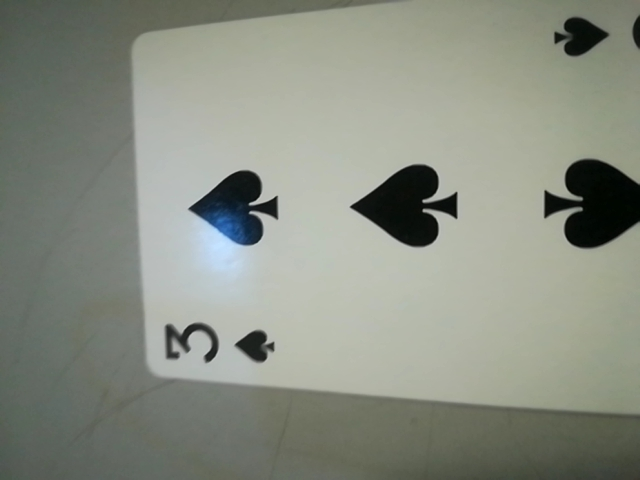ht 3: (140, 306, 297, 386)
